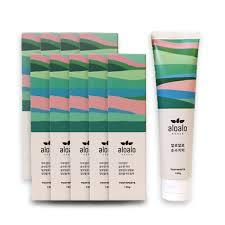toothpaste: (147, 29, 208, 207)
